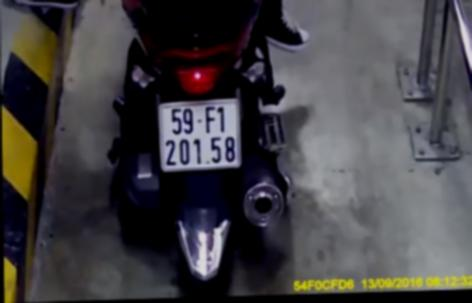License_Plate: (145, 94, 249, 179)
